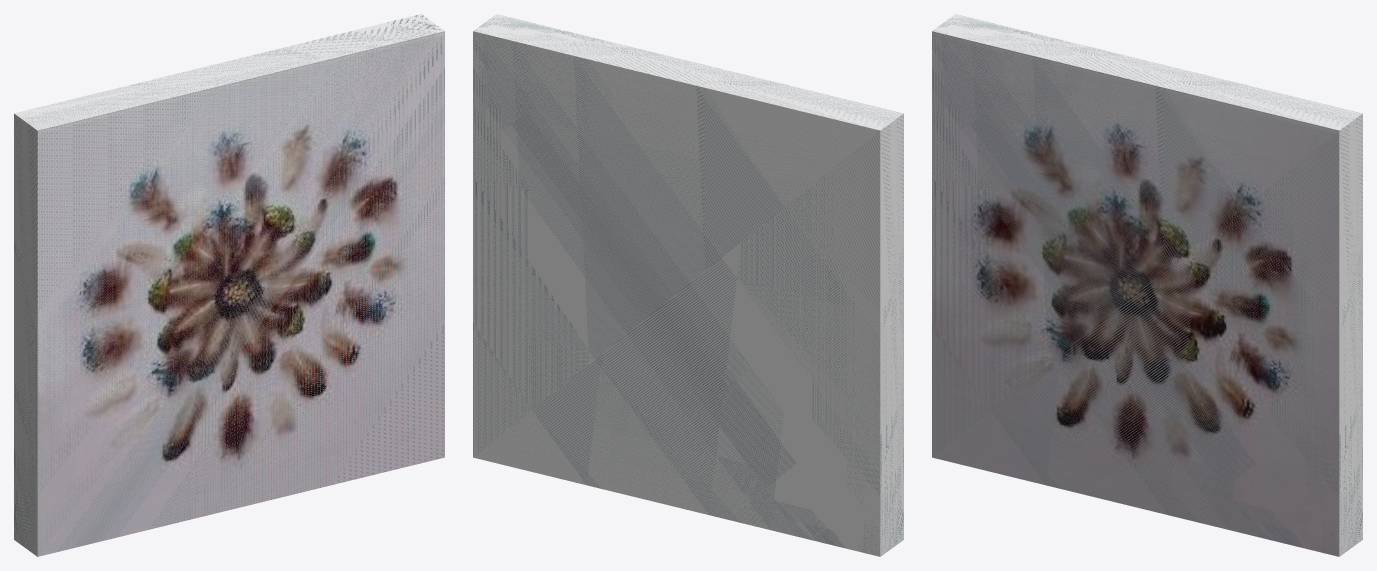
The model's file is art31.dae.
3 views of the same model, side by side, from view 1: azimuth 30°, elevation 25°; view 2: azimuth 150°, elevation 25°; view 3: azimuth 330°, elevation 25° (orthographic).
Visible parts, largest first — view 1: group_0 (×2); view 2: group_0; view 3: group_0 (×2).
Part boxes in pixels (x1,y1,x2,y2): group_0 (×2): (14,14,444,556); group_0: (473,14,903,556); group_0 (×2): (932,14,1362,556).
Size of the model in its own units: 19.69 by 1.97 by 19.69.
Materials: 3 (1 with a texture image).
